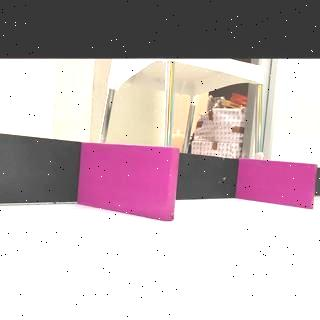xparking: (90, 148, 176, 218), (242, 165, 314, 207)
